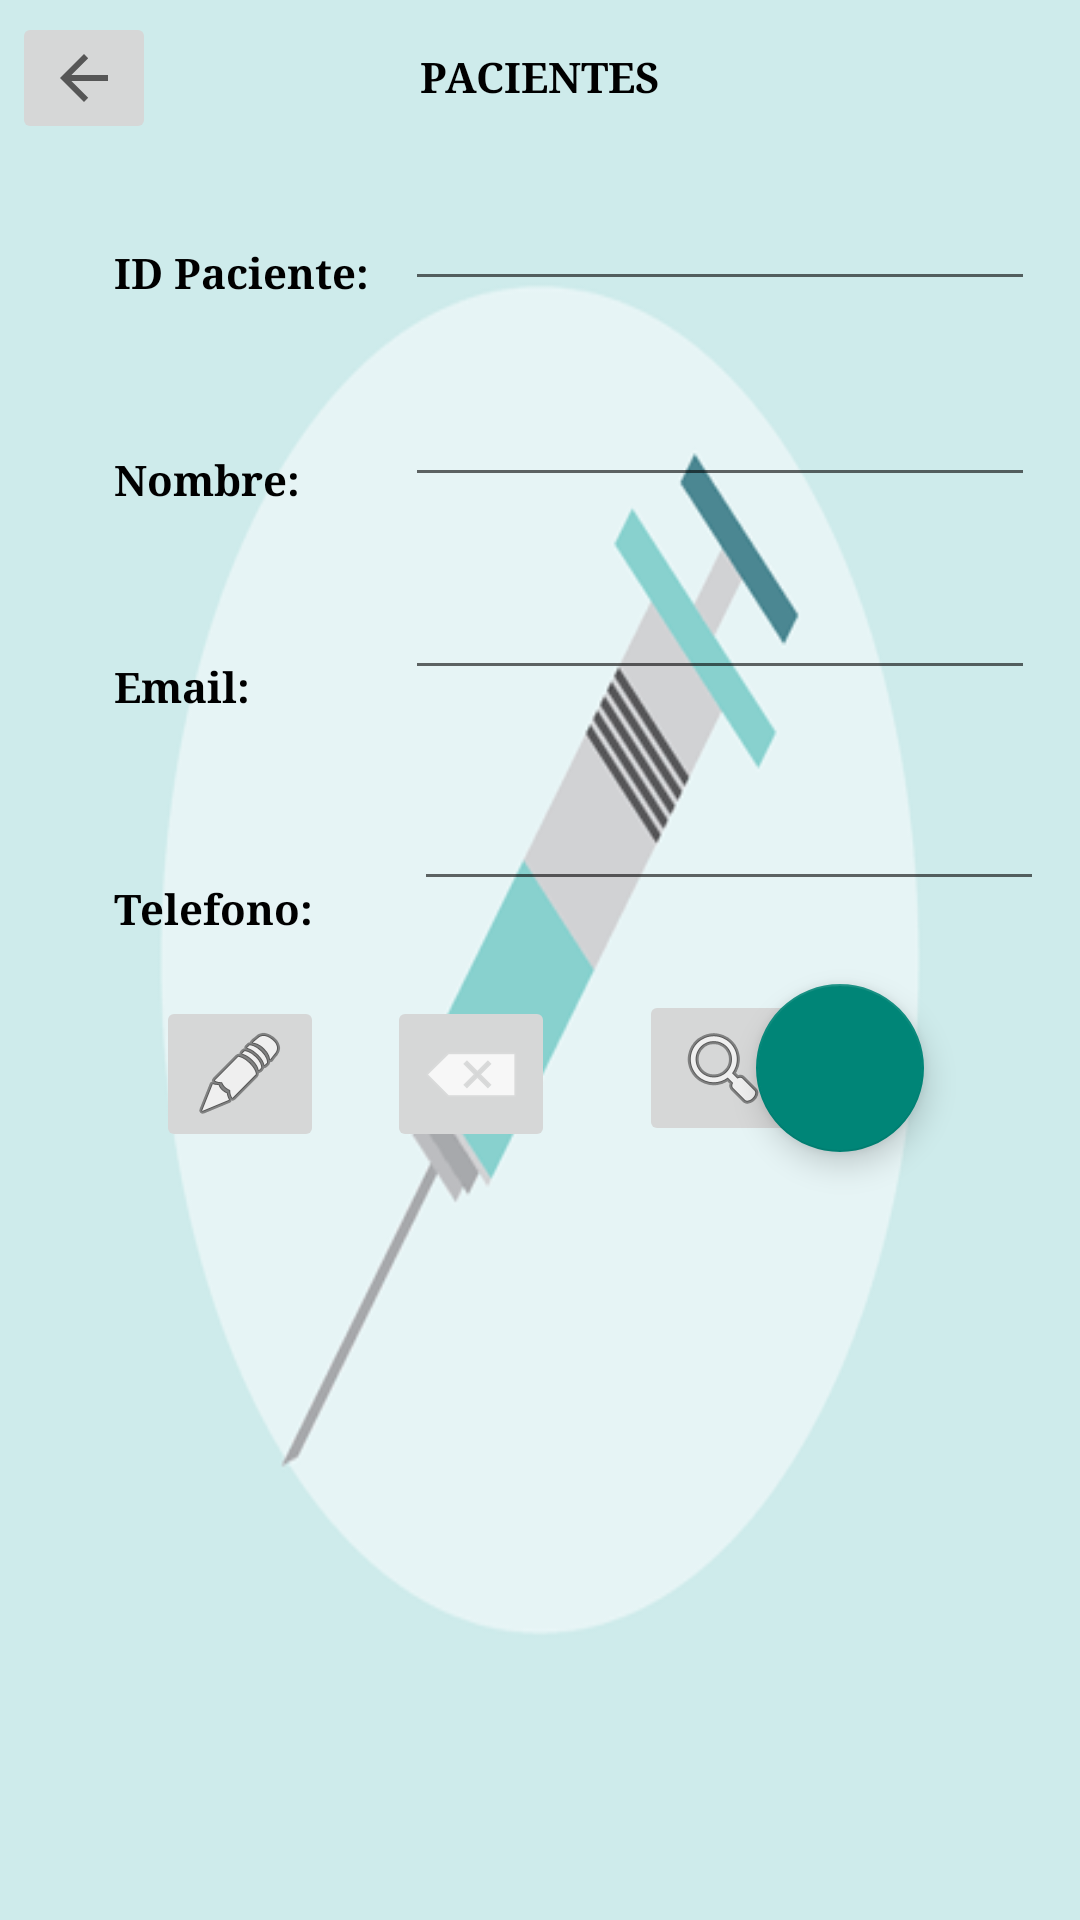

Icons on this 1080 x 1920 Android screen, each with the point to tap as (x=x, y=y):
delete: (x=477, y=1074)
edit: (x=235, y=1082)
